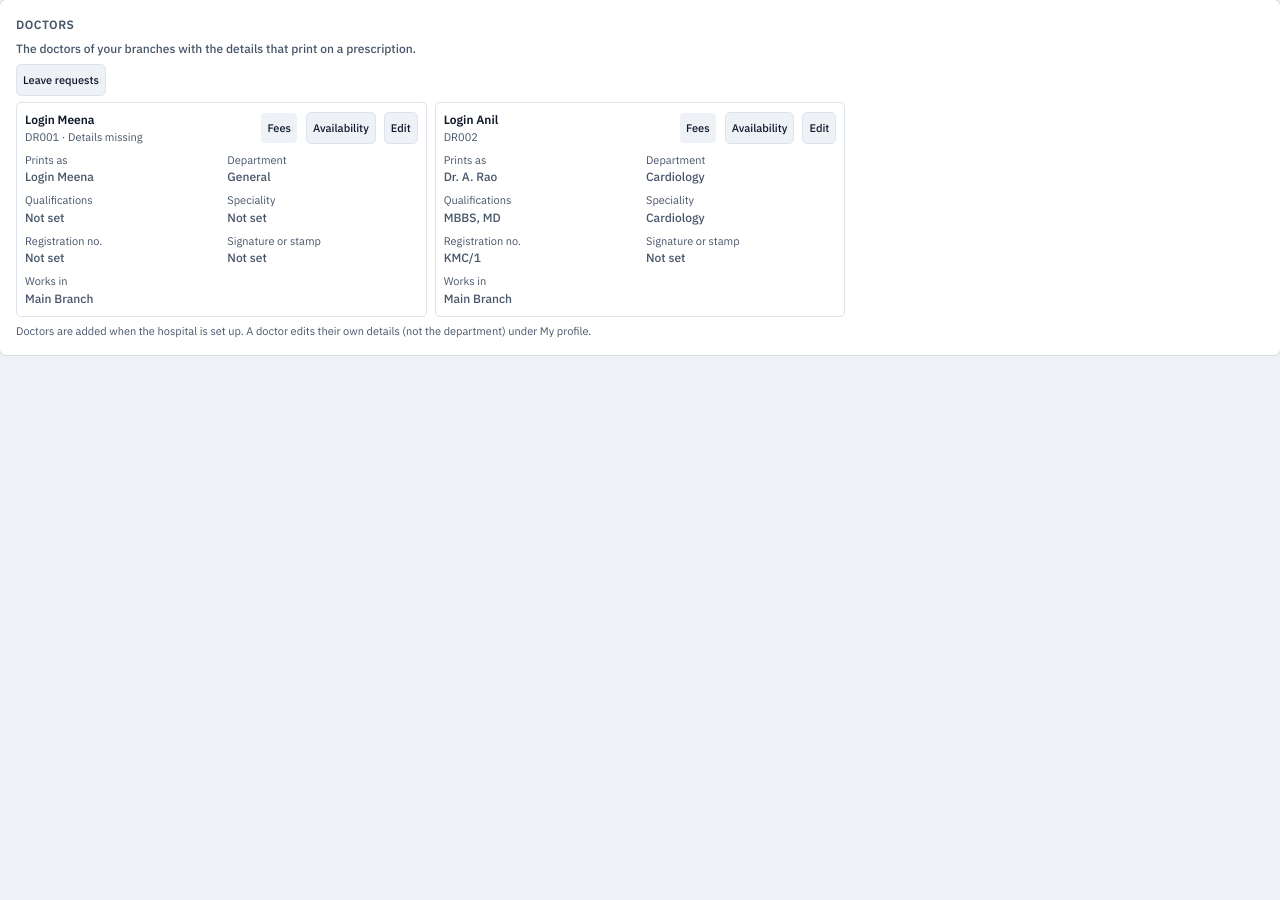
it: DoctorsList › Edit opens a pop-up with the five fields filled with what is saved, and Close hides it
Step 1. Click the button "Edit" in the row of "Login Anil" → (819, 128), box [802,112,836,144]
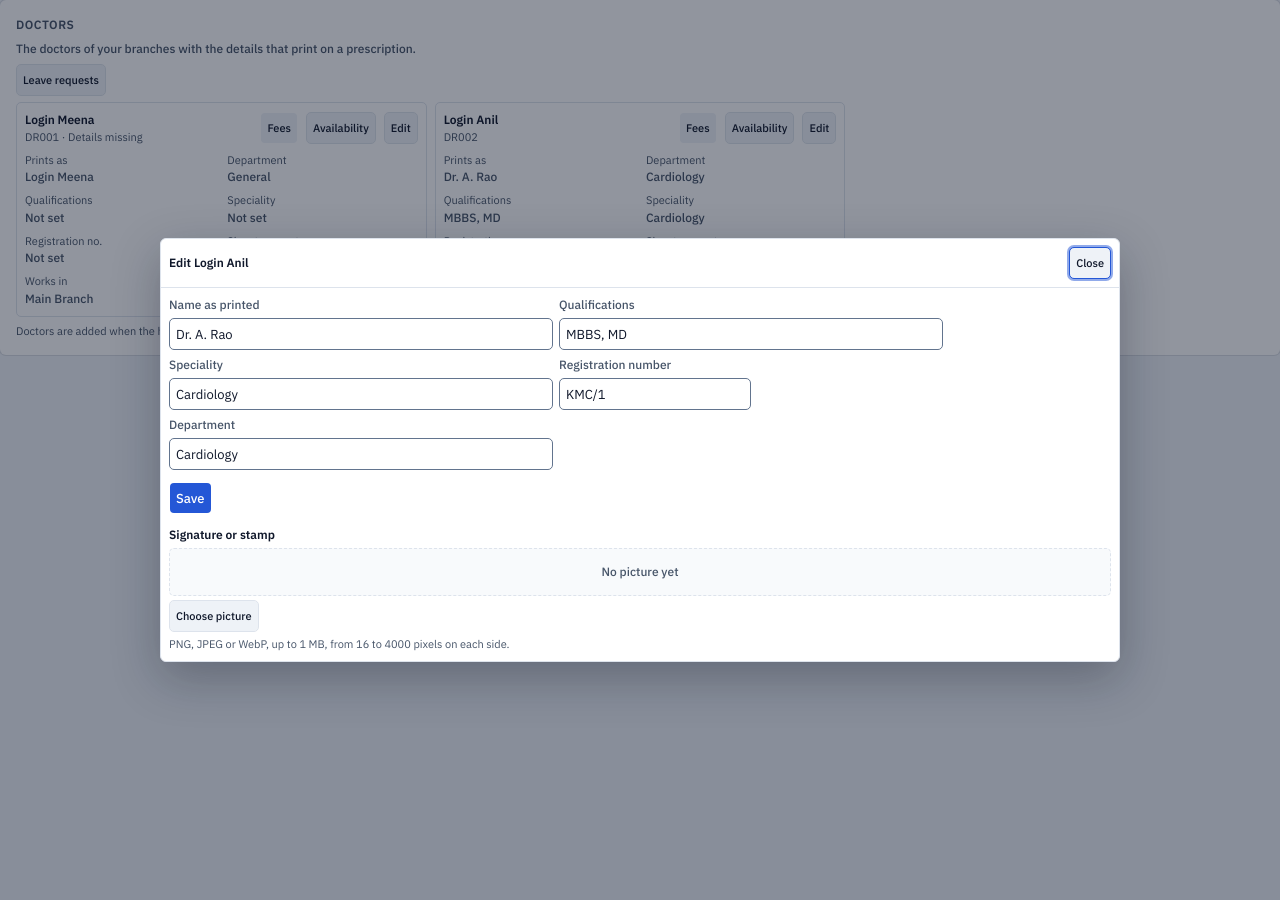
Expected: the field labelled "Name as printed" holds "Dr. A. Rao", [169,318,553,350]
Expected: the field labelled "Qualifications" holds "MBBS, MD", [559,318,943,350]
Expected: the field labelled "Speciality" holds "Cardiology", [169,378,553,410]
Step 2. Click the button "Close" → (1090, 263), box [1069,247,1111,279]
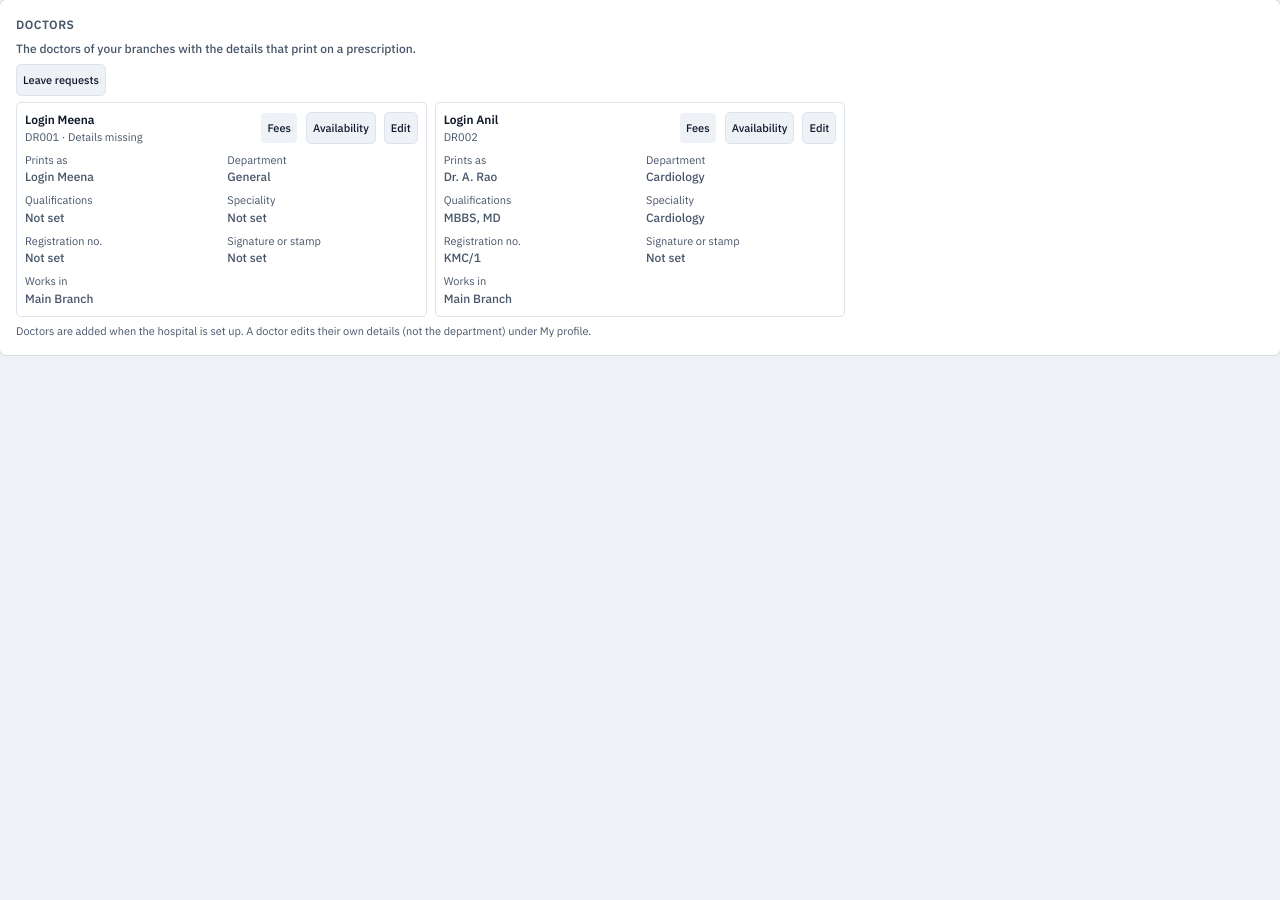
Expected: the dialog is gone
Expected: the button "Save" is gone
